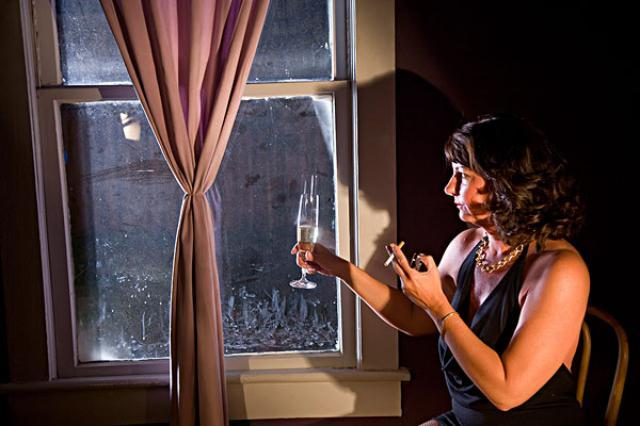Smoking: (383, 242, 405, 268)
